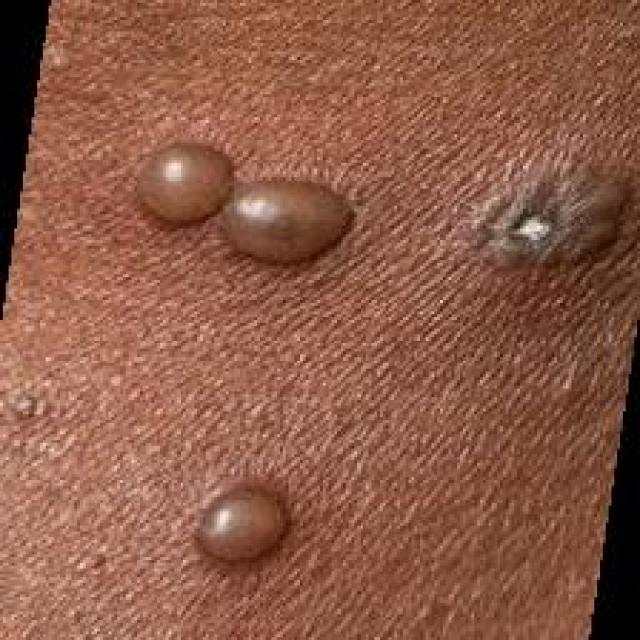others: (28, 0, 623, 640)
